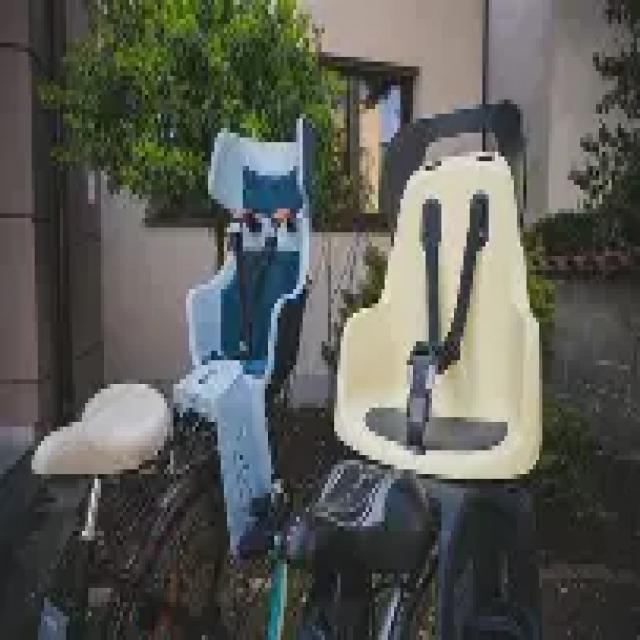childseat: (326, 94, 558, 485), (168, 113, 326, 538)
